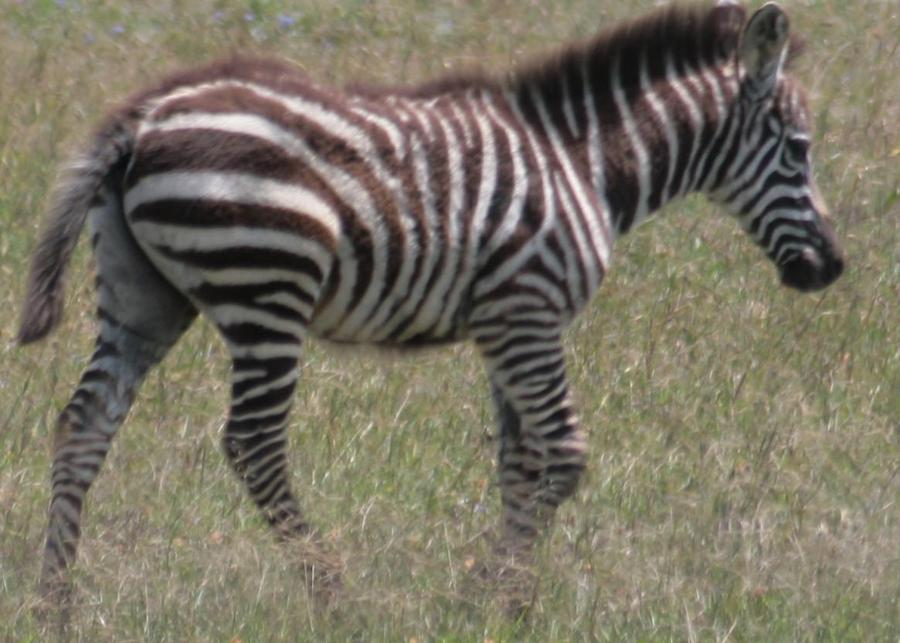zebra_plains: (124, 3, 657, 401)
